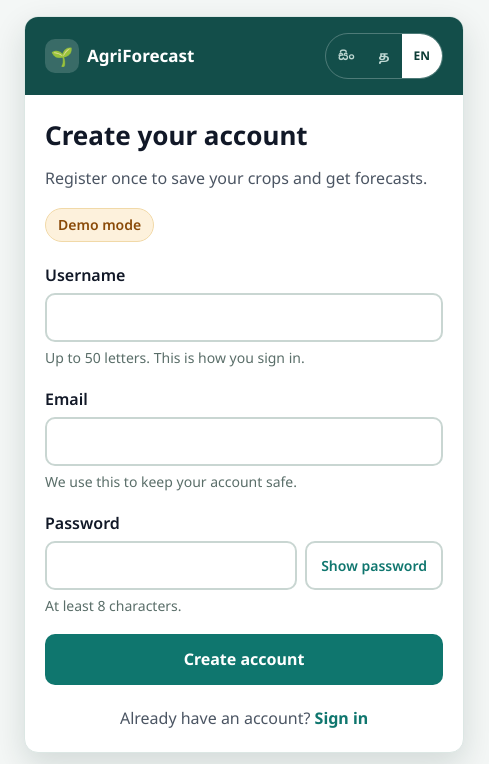
Test: RegisterPage › enforces the 8-char minimum password (mirrors the server rule)
This screenshot has width=489, height=764.
Type "farmer1" into the field labelled "Username".
click(244, 318); type("farmer1")  # box [45, 293, 443, 342]
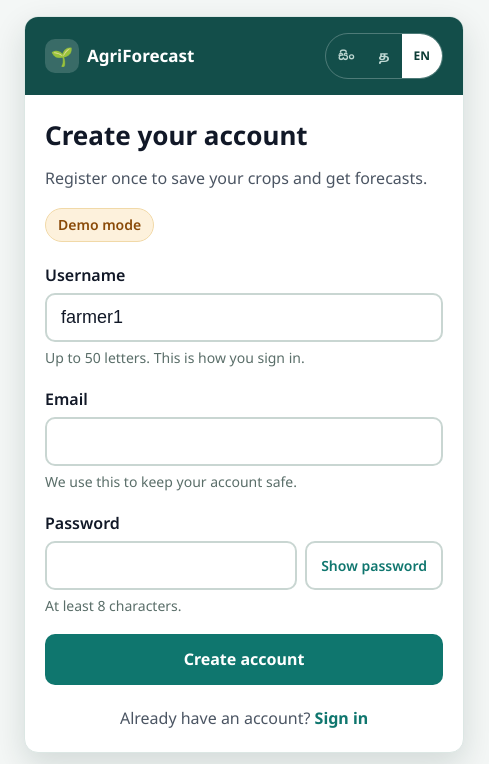
Type "a@b.com" into the field labelled "Email".
click(244, 442); type("a@b.com")  # box [45, 417, 443, 466]
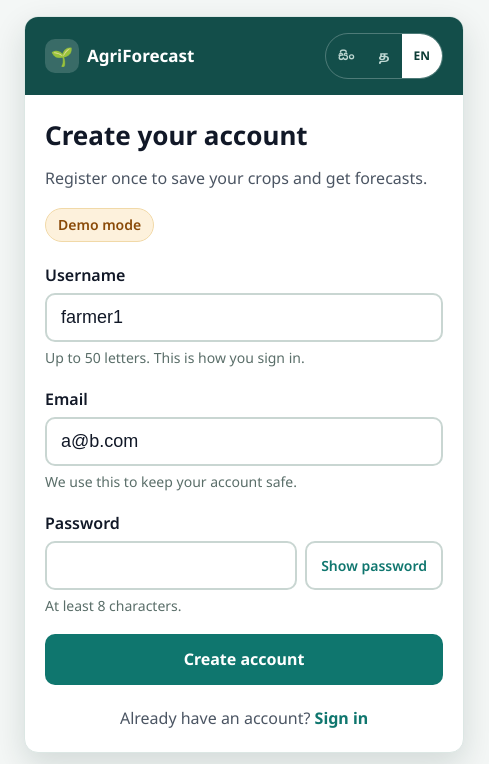
Type "short" into the password field labelled "Password".
click(171, 565); type("short")  # box [45, 541, 297, 590]
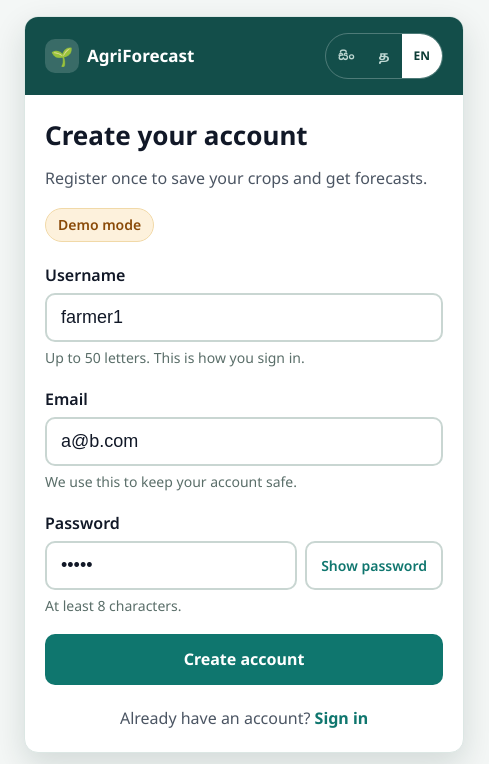
Click the button "Create account".
click(244, 659)  # box [45, 634, 443, 685]
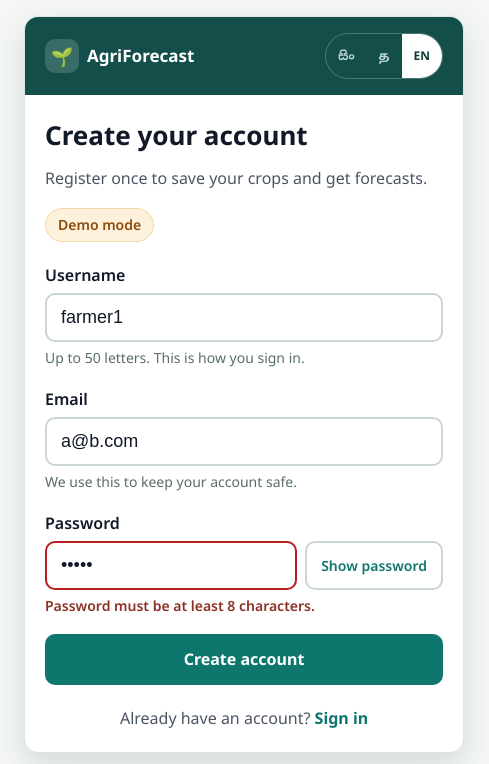
Now the text "Password must be at least 8 characters." is shown, box [45, 596, 315, 615]
